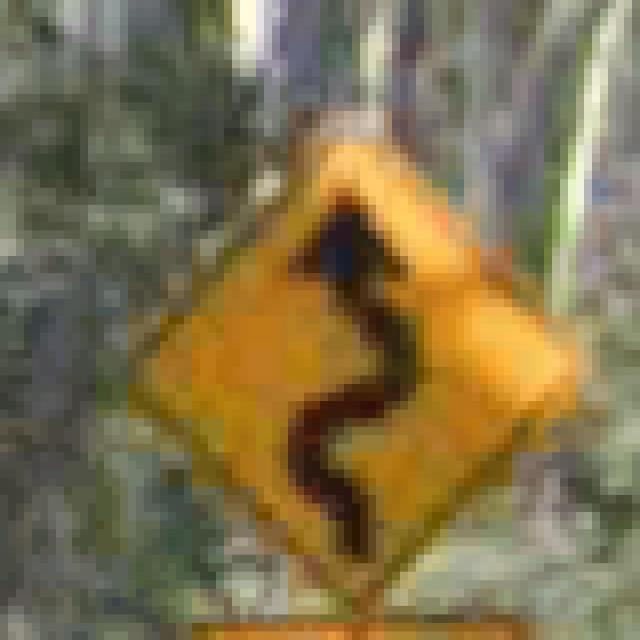Banyak Tikungan Pertama Kiri: (96, 111, 576, 606)
